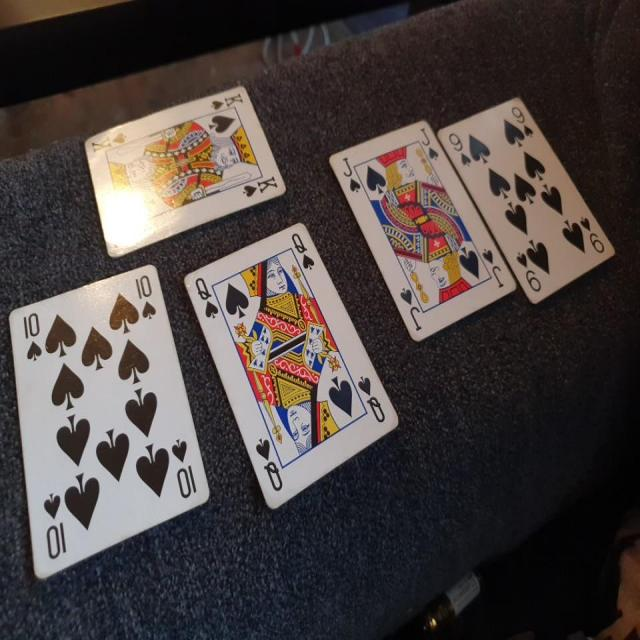10 Spades: (1, 253, 217, 594)
9 Spades: (431, 84, 618, 305)
J Spades: (319, 118, 506, 337)
K Spades: (77, 82, 288, 266)
Q Spades: (177, 216, 405, 517)
